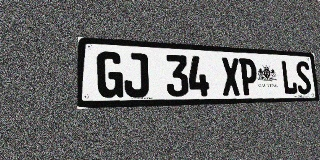3: (166, 54, 189, 97)
4: (188, 56, 209, 96)
G: (97, 51, 123, 98)
J: (124, 52, 149, 98)
L: (281, 60, 298, 95)
P: (239, 58, 258, 95)
S: (295, 61, 312, 94)
X: (221, 57, 241, 96)
